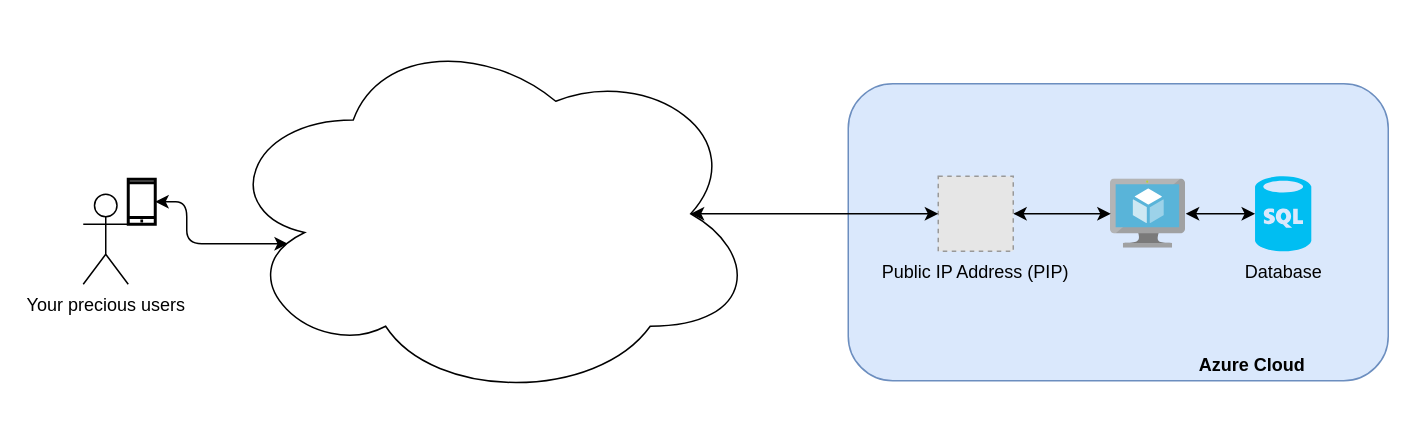
The diagram is 1415 pixels wide and 428 high, and some of its shapes have lost their labels. Grey dashed boxes stand in for pictures. Each missing label, with the centre of its shape:
The Internet: point (487, 213)
Virtual Machine: point (1147, 213)
